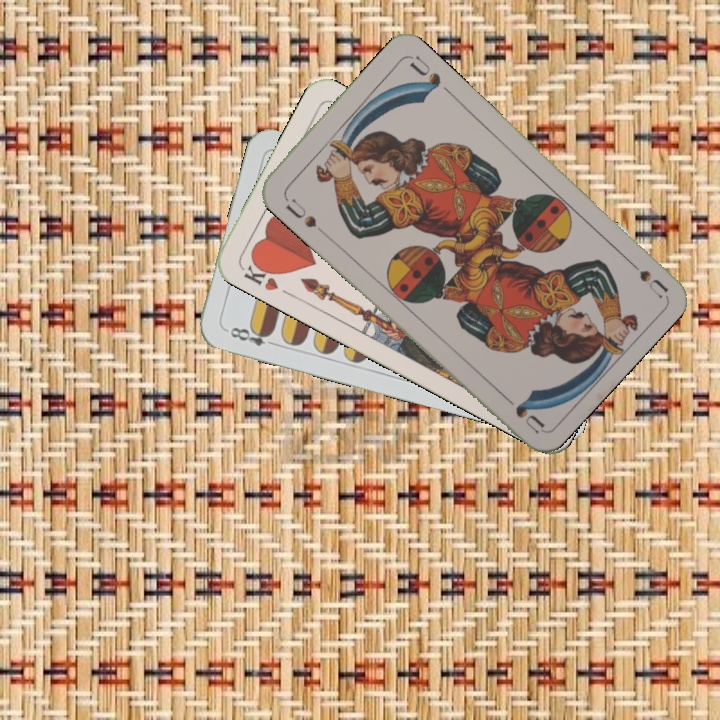E8: (226, 322, 280, 349)
HK: (237, 255, 282, 294)
SU: (619, 251, 670, 300), (279, 191, 327, 237)
